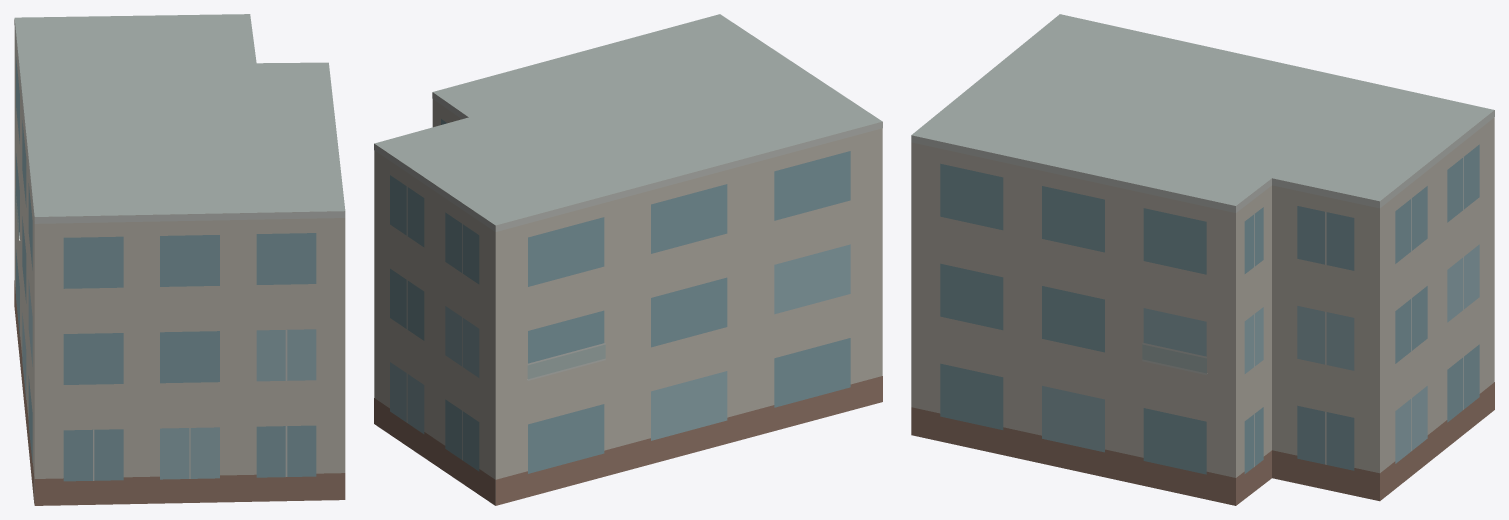
File: survey-upis-32602273.glb
The picture shows the model from 3 angles, left to right: view 1: azimuth 30°, elevation 25°; view 2: azimuth 150°, elevation 25°; view 3: azimuth 270°, elevation 25°; orthographic projection. The views are drawn at different scales.
Visible parts, largest first — view 1: survey-upis-32602273.tmp; view 2: survey-upis-32602273.tmp; view 3: survey-upis-32602273.tmp.
Boxes of the visible parts, x1,y1,x2,y2 form: survey-upis-32602273.tmp: (14,14,345,505); survey-upis-32602273.tmp: (374,14,882,505); survey-upis-32602273.tmp: (911,14,1494,505).
Size of the model in its own units: 14.16 by 10.3 by 18.18.
